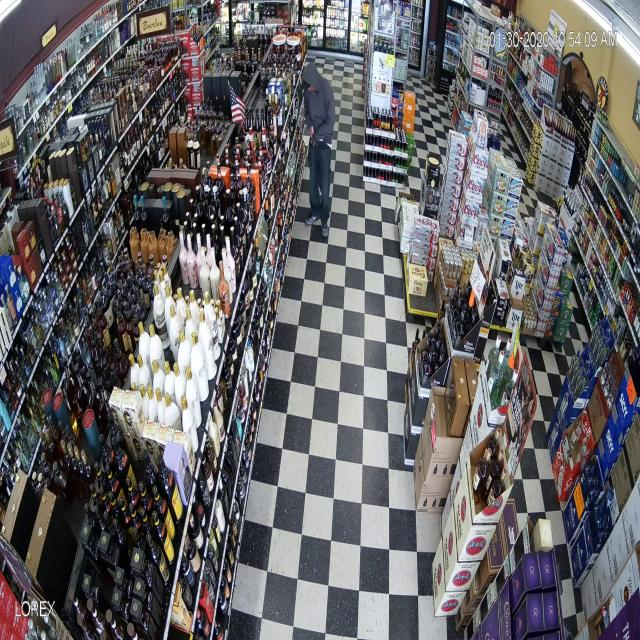shoplifting: (285, 41, 349, 244)
